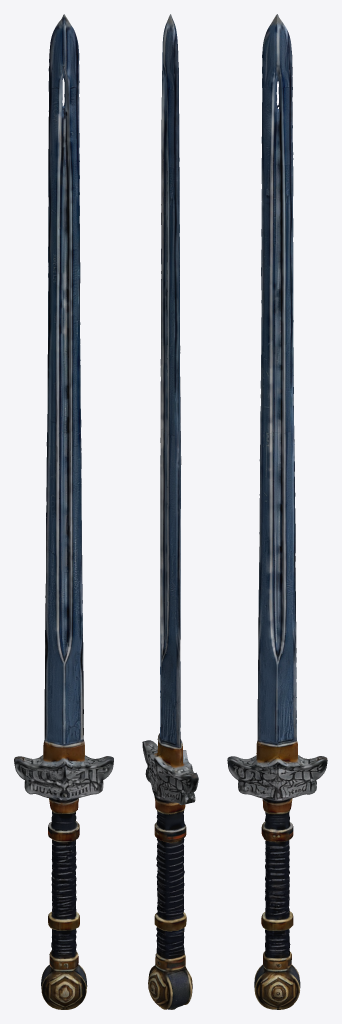
File: medieval sword 3d model.glb
The picture shows the model from 3 angles, left to right: view 1: azimuth 90°, elevation 25°; view 2: azimuth 210°, elevation 25°; view 3: azimuth 270°, elevation 25°; orthographic projection.
Visible parts, largest first — view 1: tripo_node_c652359a; view 2: tripo_node_c652359a; view 3: tripo_node_c652359a.
Boxes of the visible parts, left/top/right/bottom form: tripo_node_c652359a: left=14, top=14, right=113, bottom=1009; tripo_node_c652359a: left=142, top=14, right=198, bottom=1009; tripo_node_c652359a: left=227, top=14, right=327, bottom=1009.
Size of the model in its own units: 3.97 by 99.93 by 9.11.
Materials: 1 (1 with a texture image).
